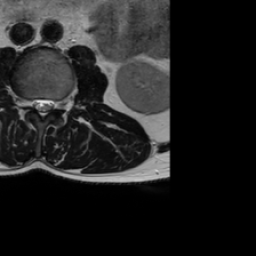CCS_normal: (38, 91, 45, 125)
LFS_normal: (53, 92, 62, 114)
LLS_normal: (45, 91, 53, 117)
RFS_normal: (22, 90, 30, 115)
RLS_normal: (30, 91, 38, 114)
